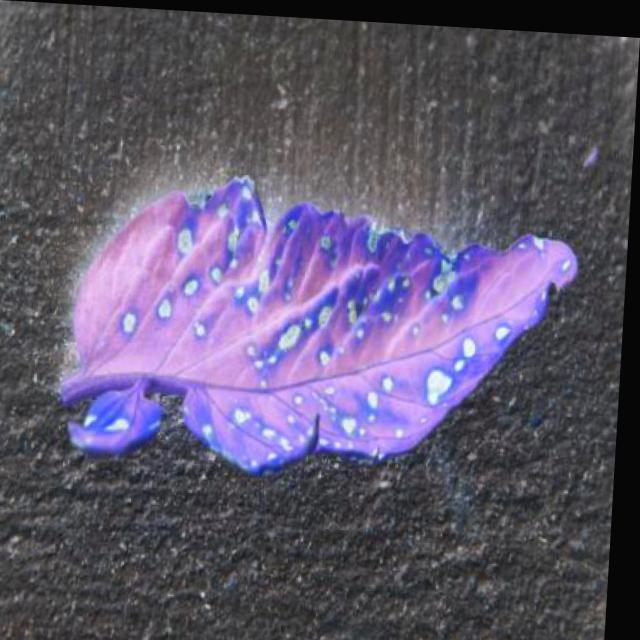Tomato Early blight leaf: (69, 170, 590, 490)
